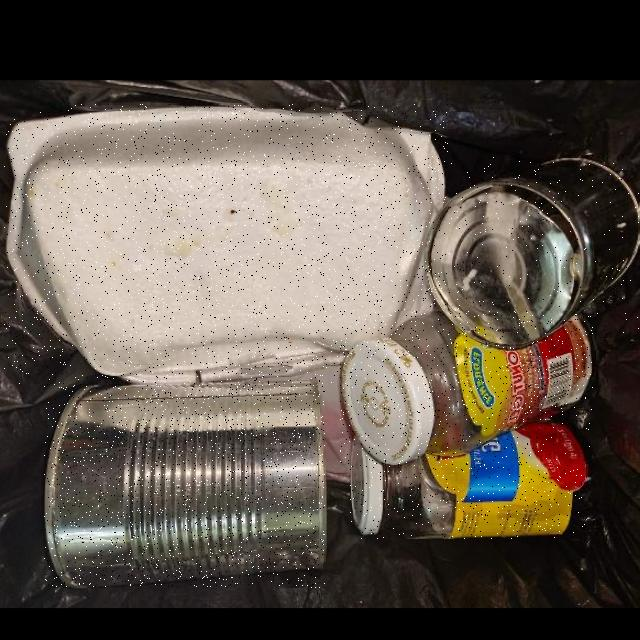glass: (341, 311, 593, 464), (350, 421, 587, 539)
metal: (44, 377, 325, 587), (426, 157, 639, 349)
styrofoam: (4, 104, 448, 384)
